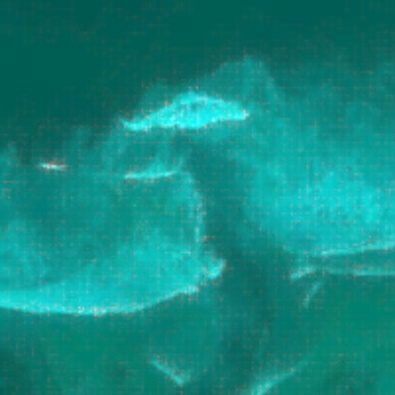rip_current: (172, 90, 301, 339)
